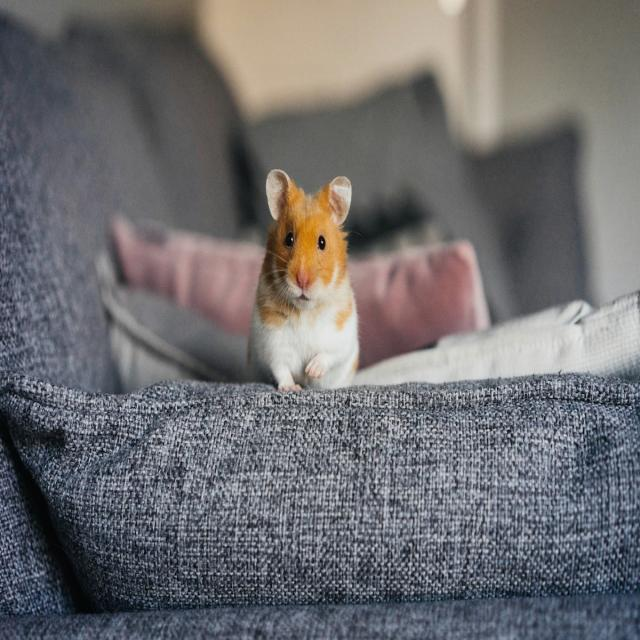hamster: (249, 169, 359, 389)
